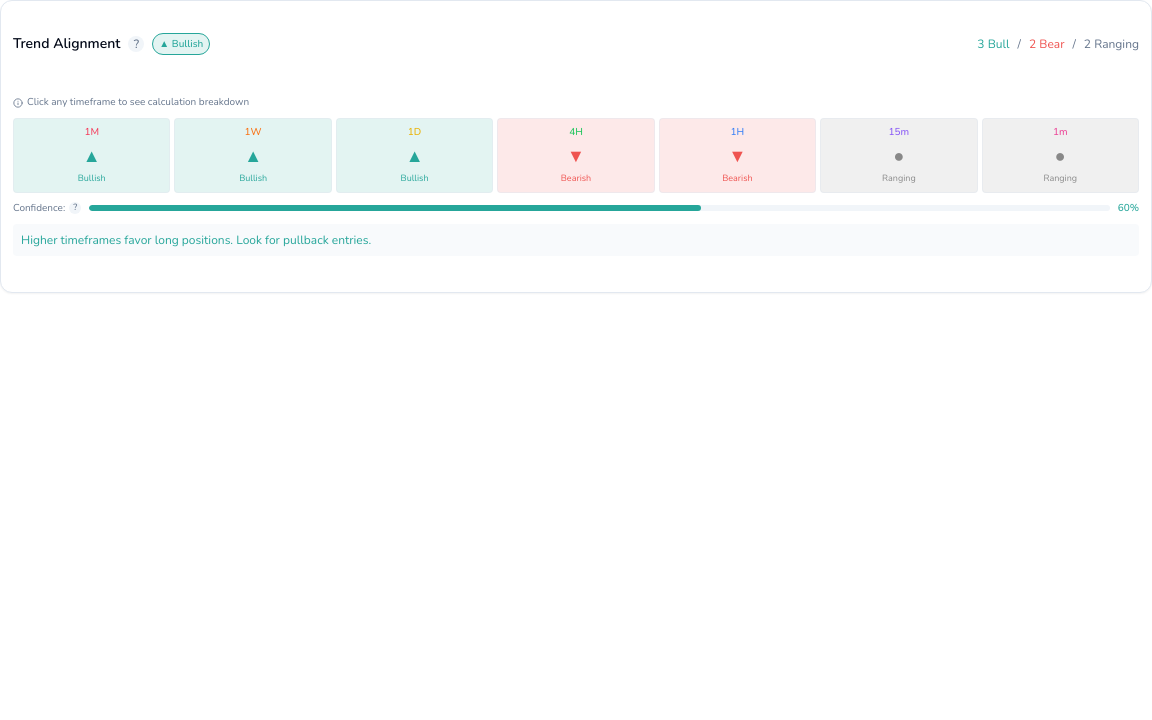
Test: TrendAlignmentPanel › phase indicator › should show phase indicator in timeframe breakdown popover
The width and height of the screenshot is (1152, 720).
Click the button "1D ▲ Bullish": {"x": 414, "y": 155} [336, 118, 493, 192]
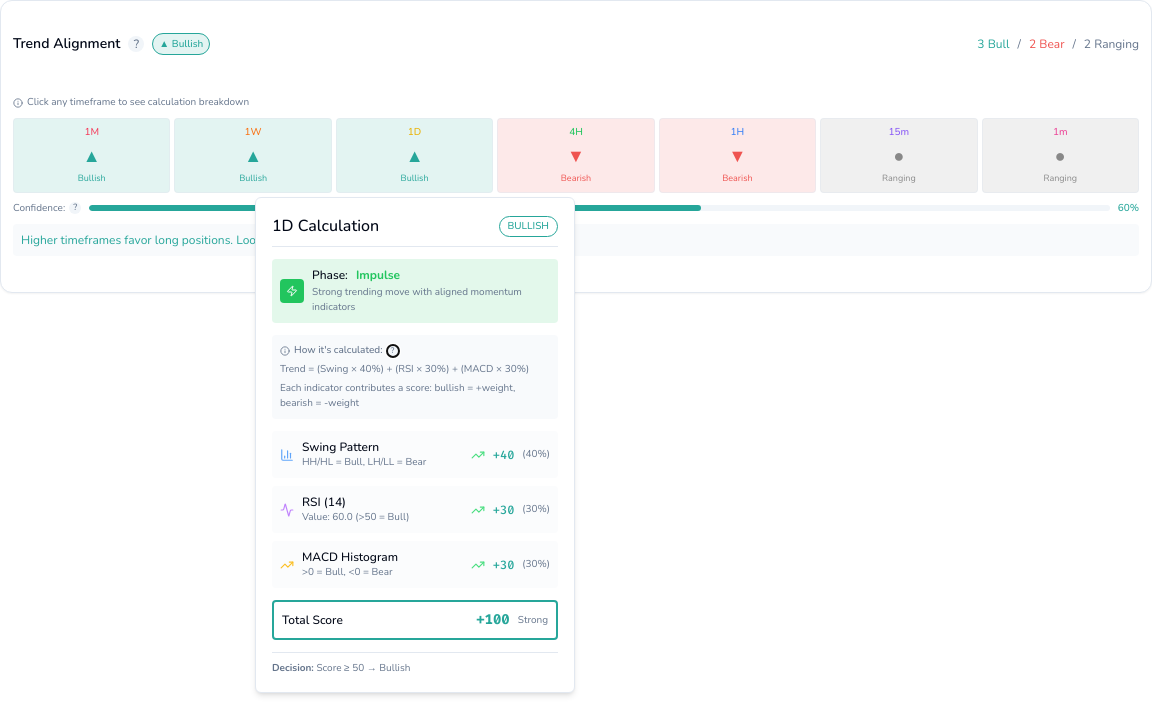
Expected: the text "Phase:" is shown, [312, 267, 348, 283]
